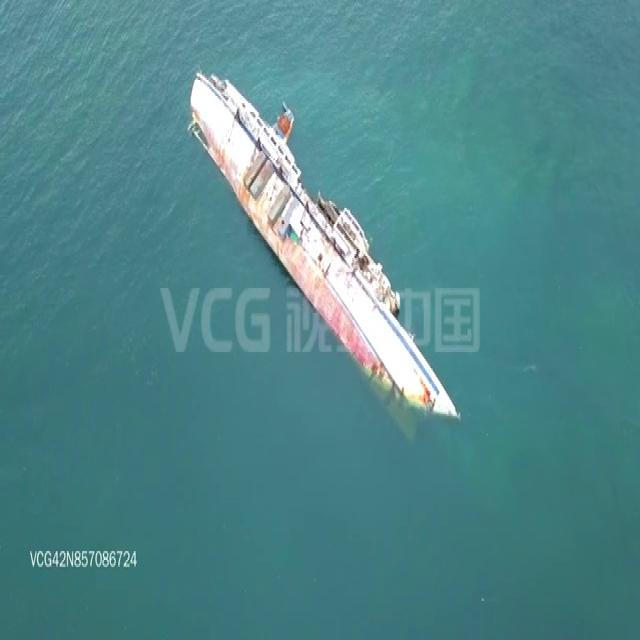cargoship: (192, 59, 463, 422)
